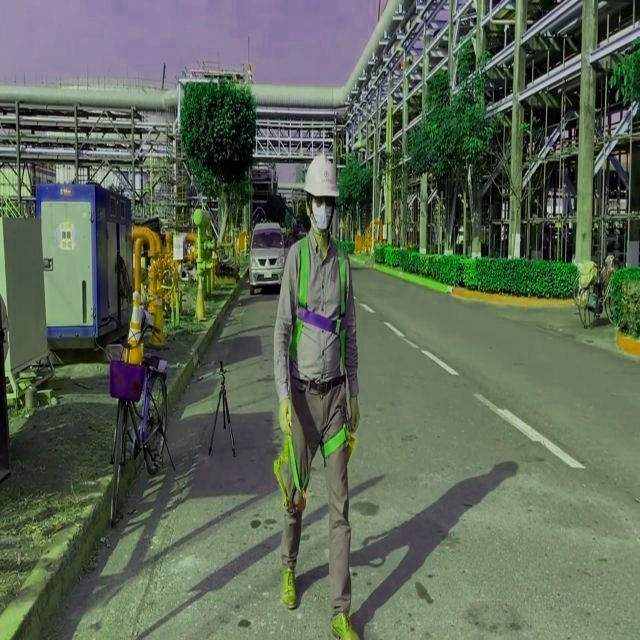safety belt: (286, 242, 374, 465)
